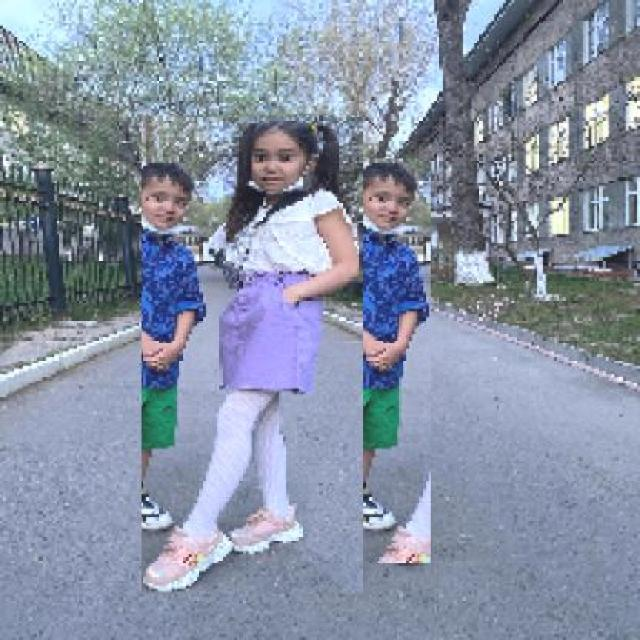child: (140, 115, 363, 596), (295, 158, 431, 564)
